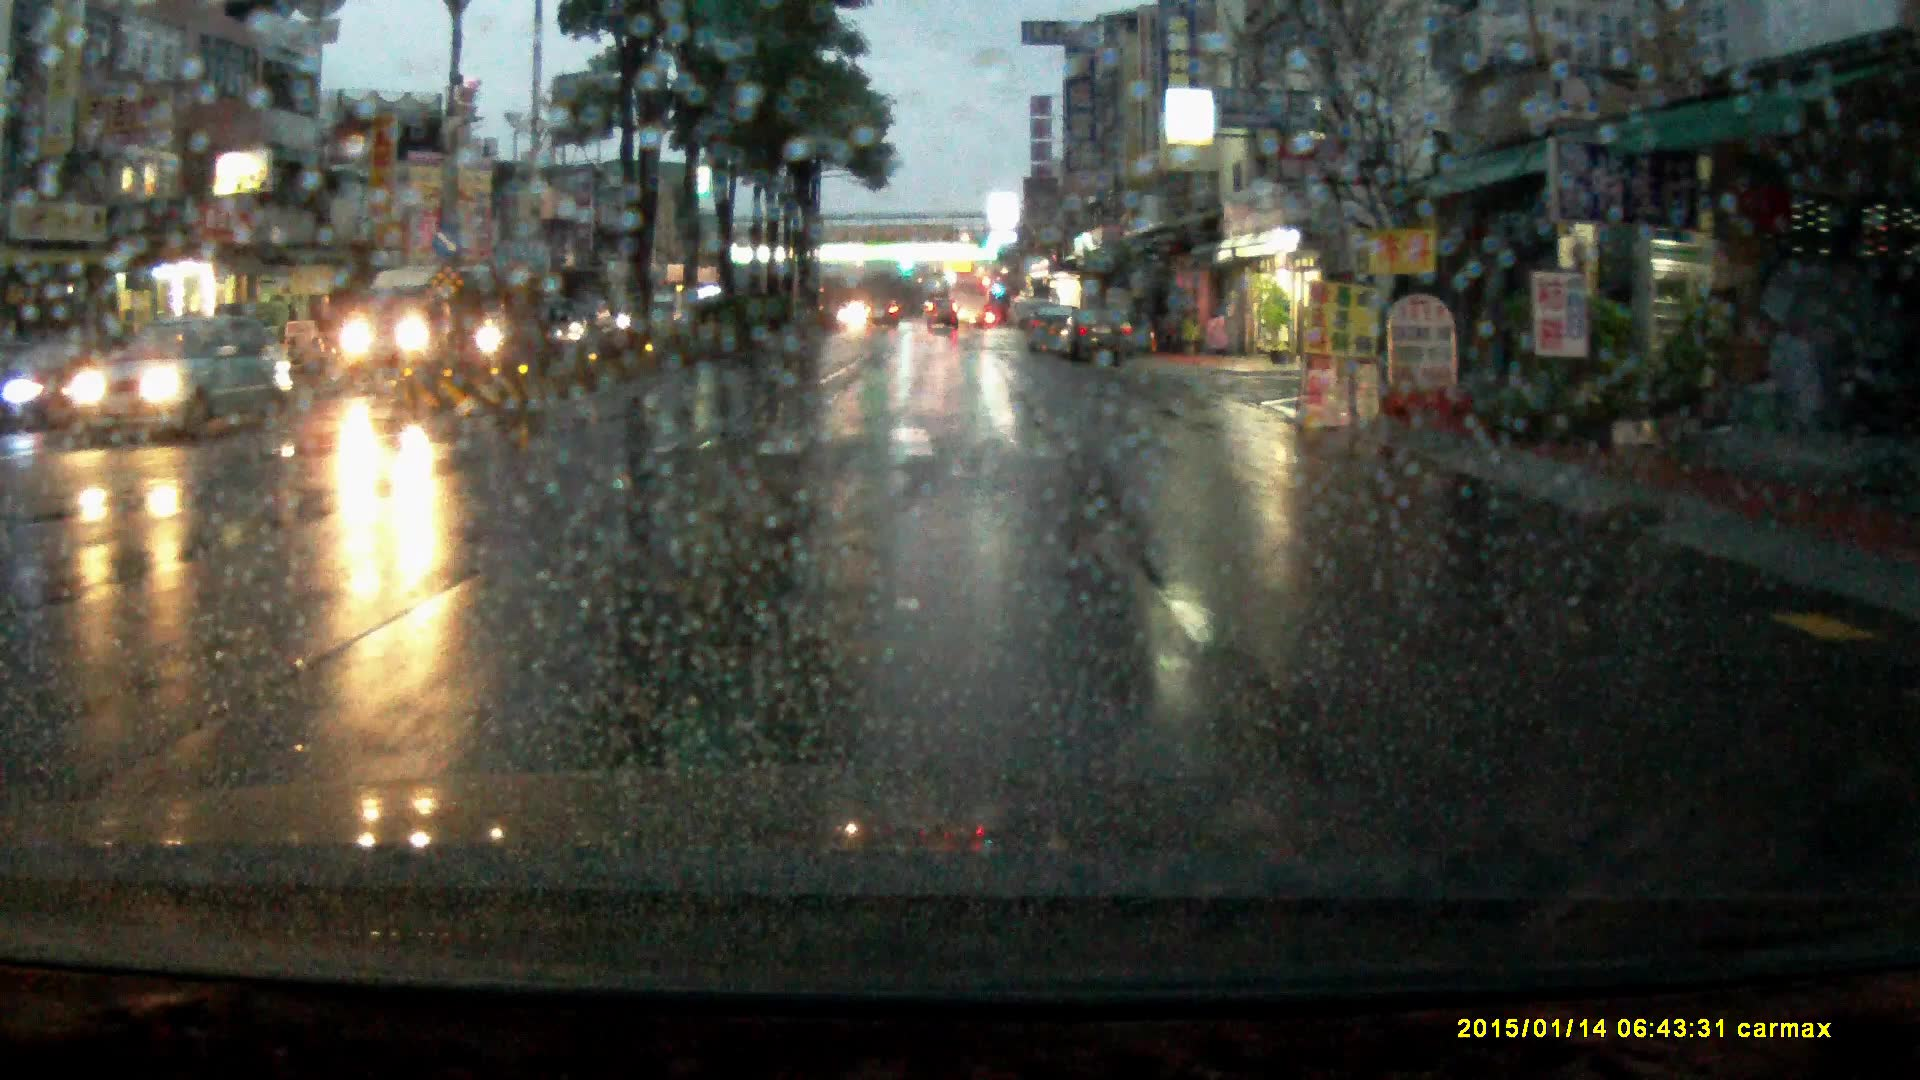vehicle: (71, 318, 282, 447), (338, 264, 493, 390), (1, 336, 107, 438), (477, 295, 597, 359), (1056, 306, 1135, 365), (1025, 302, 1077, 356), (945, 274, 986, 328), (926, 295, 959, 332), (862, 298, 899, 328)
